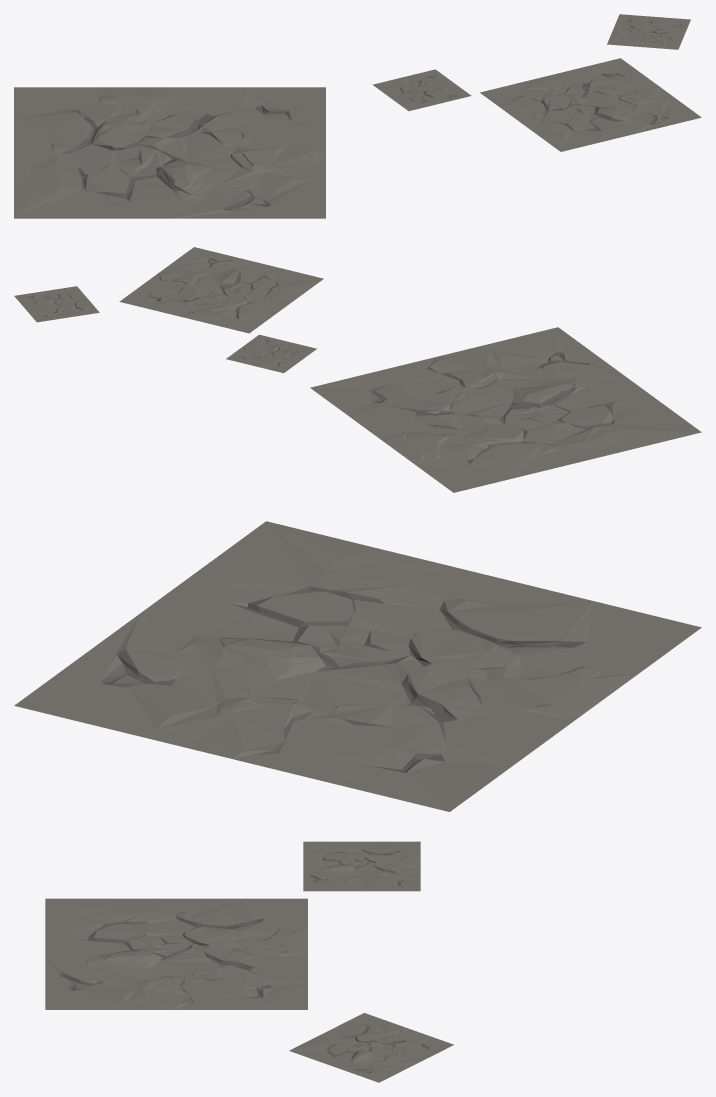
Rendered from Stage2.FBX.
3 renders of one model, top to bottom at view 1: azimuth 30°, elevation 25°; view 2: azimuth 150°, elevation 25°; view 3: azimuth 270°, elevation 25°, orthographic. The views are drawn at different scales.
Parts seen in each view (by area): view 1: SM_Env_CrackedRock_9, SM_Env_CrackedRock_8, SM_Env_CrackedRock_3, SM_Env_CrackedRock_25; view 2: SM_Env_CrackedRock_9, SM_Env_CrackedRock_8, SM_Env_CrackedRock_3, SM_Env_CrackedRock_25; view 3: SM_Env_CrackedRock_9, SM_Env_CrackedRock_8, SM_Env_CrackedRock_3, SM_Env_CrackedRock_25.
Boxes of the visible parts, box(x1,y1,x2,y2) form: SM_Env_CrackedRock_9: box(14, 87, 325, 218); SM_Env_CrackedRock_8: box(480, 58, 701, 151); SM_Env_CrackedRock_3: box(373, 69, 471, 111); SM_Env_CrackedRock_25: box(607, 14, 690, 49); SM_Env_CrackedRock_9: box(310, 327, 701, 492); SM_Env_CrackedRock_8: box(119, 247, 323, 333); SM_Env_CrackedRock_3: box(226, 334, 316, 373); SM_Env_CrackedRock_25: box(14, 286, 99, 322); SM_Env_CrackedRock_9: box(14, 521, 701, 811); SM_Env_CrackedRock_8: box(45, 898, 307, 1009); SM_Env_CrackedRock_3: box(303, 841, 420, 891); SM_Env_CrackedRock_25: box(289, 1013, 453, 1082).
Bounding box in the file's own units: 2361 × 1222 × 22.47.
